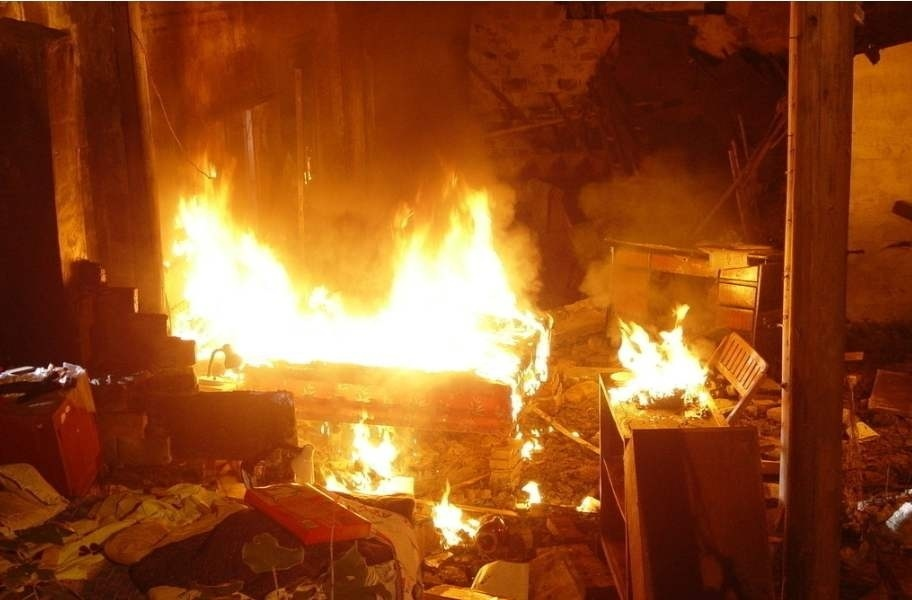fire: (153, 176, 554, 378), (609, 307, 713, 406), (325, 416, 407, 498), (430, 483, 473, 545)
